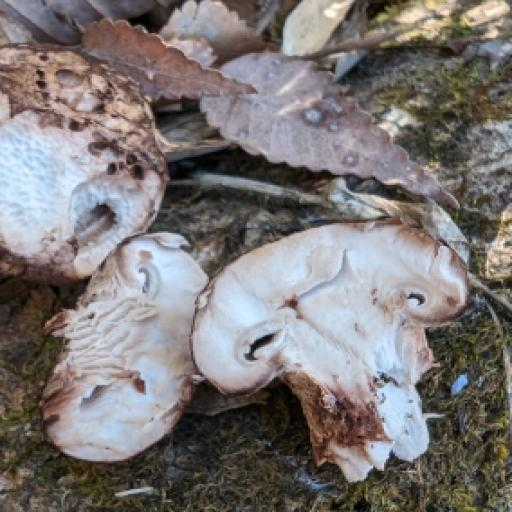Shiitake Mushroom: (173, 181, 468, 458), (45, 240, 212, 459)
